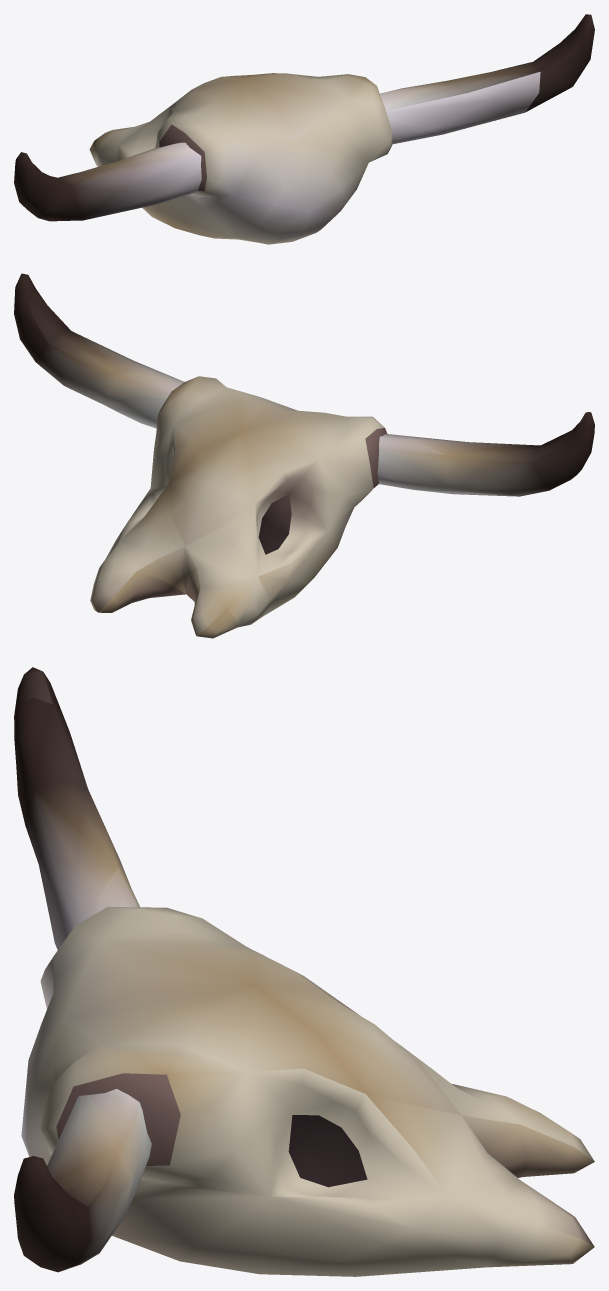
The model's file is Bone.fbx.
3 views of the same model, one above another, from view 1: azimuth 30°, elevation 25°; view 2: azimuth 150°, elevation 25°; view 3: azimuth 270°, elevation 25° (orthographic). The views are drawn at different scales.
Parts seen in each view (by area): view 1: Bone_02.001; view 2: Bone_02.001; view 3: Bone_02.001.
Part boxes in pixels (x1,y1,x2,y2): Bone_02.001: [14, 14, 594, 244]; Bone_02.001: [14, 273, 594, 638]; Bone_02.001: [14, 667, 594, 1276].
Size of the model in its own units: 3.14 by 0.9522 by 1.55.
